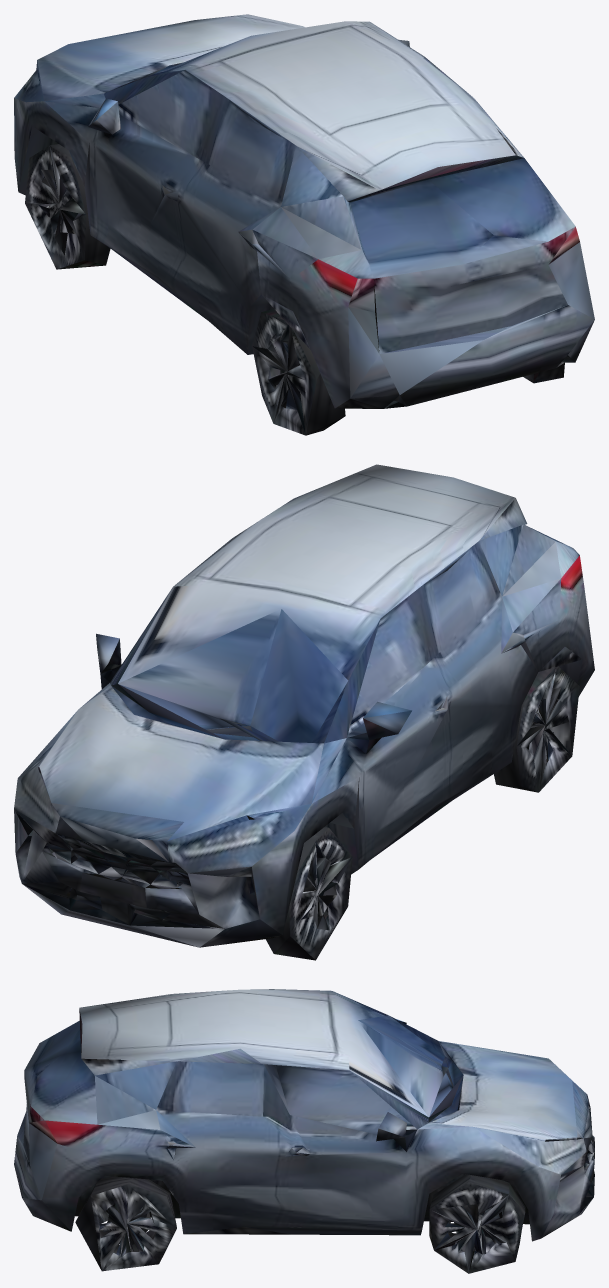
File: suv-lod1.glb
3 renders of one model, top to bottom at view 1: azimuth 30°, elevation 25°; view 2: azimuth 150°, elevation 25°; view 3: azimuth 270°, elevation 25°, orthographic. The views are drawn at different scales.
Parts seen in each view (by area): view 1: tripo_node_49363dec; view 2: tripo_node_49363dec; view 3: tripo_node_49363dec.
Part boxes in pixels (left/top/right/bottom): tripo_node_49363dec: left=14, top=14, right=594, bottom=435; tripo_node_49363dec: left=14, top=464, right=594, bottom=960; tripo_node_49363dec: left=14, top=989, right=594, bottom=1273.
Bounding box in the file's own units: 2.26 × 1.88 × 4.7.
Materials: 1 (1 with a texture image).
